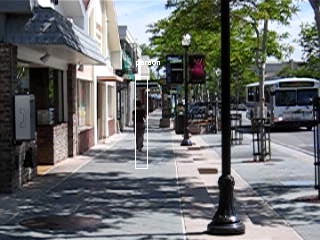person: (132, 98, 149, 151), (131, 98, 148, 151), (133, 98, 150, 151), (132, 97, 149, 150), (132, 99, 149, 152)
target_negative: (188, 17, 307, 83), (207, 115, 315, 145), (32, 201, 98, 224), (314, 137, 317, 225), (242, 39, 262, 47)
